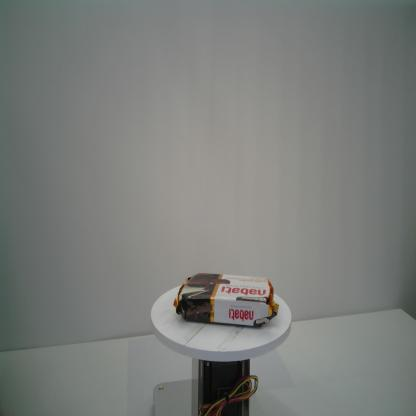Dessert: (173, 268, 278, 331)
